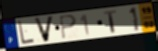1: (129, 6, 141, 32), (80, 13, 91, 36)
L: (18, 20, 36, 46)
P: (58, 14, 78, 40)
T: (103, 9, 118, 34)
V: (33, 15, 55, 43)
